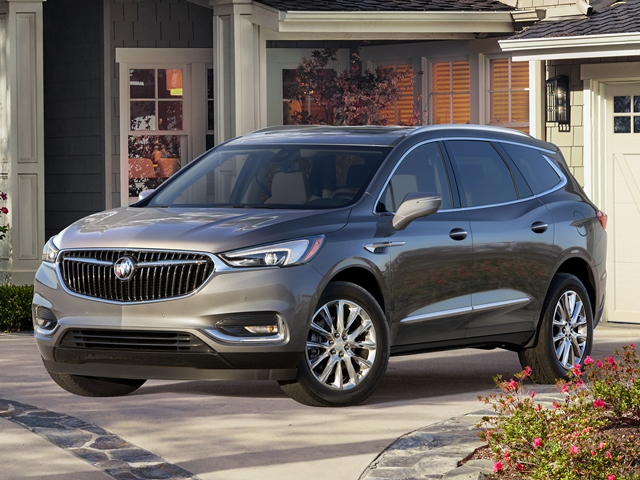car: (19, 84, 620, 417)
